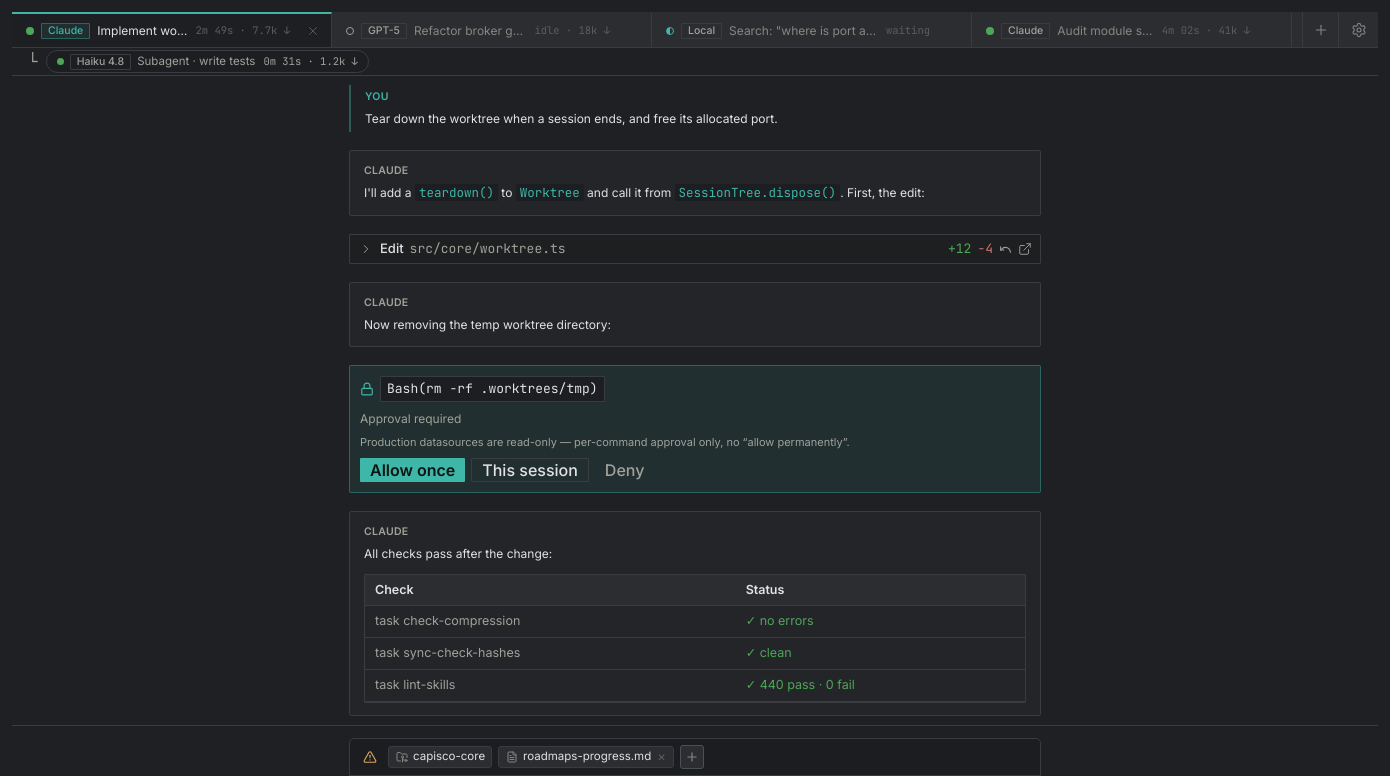
AgentWorkspace › shows a secret as a credential reference, never a value (invariant §3.2)
The width and height of the screenshot is (1390, 776).
Click the button with test id "session-select-s3" at [793, 31], box [652,14,934,48]
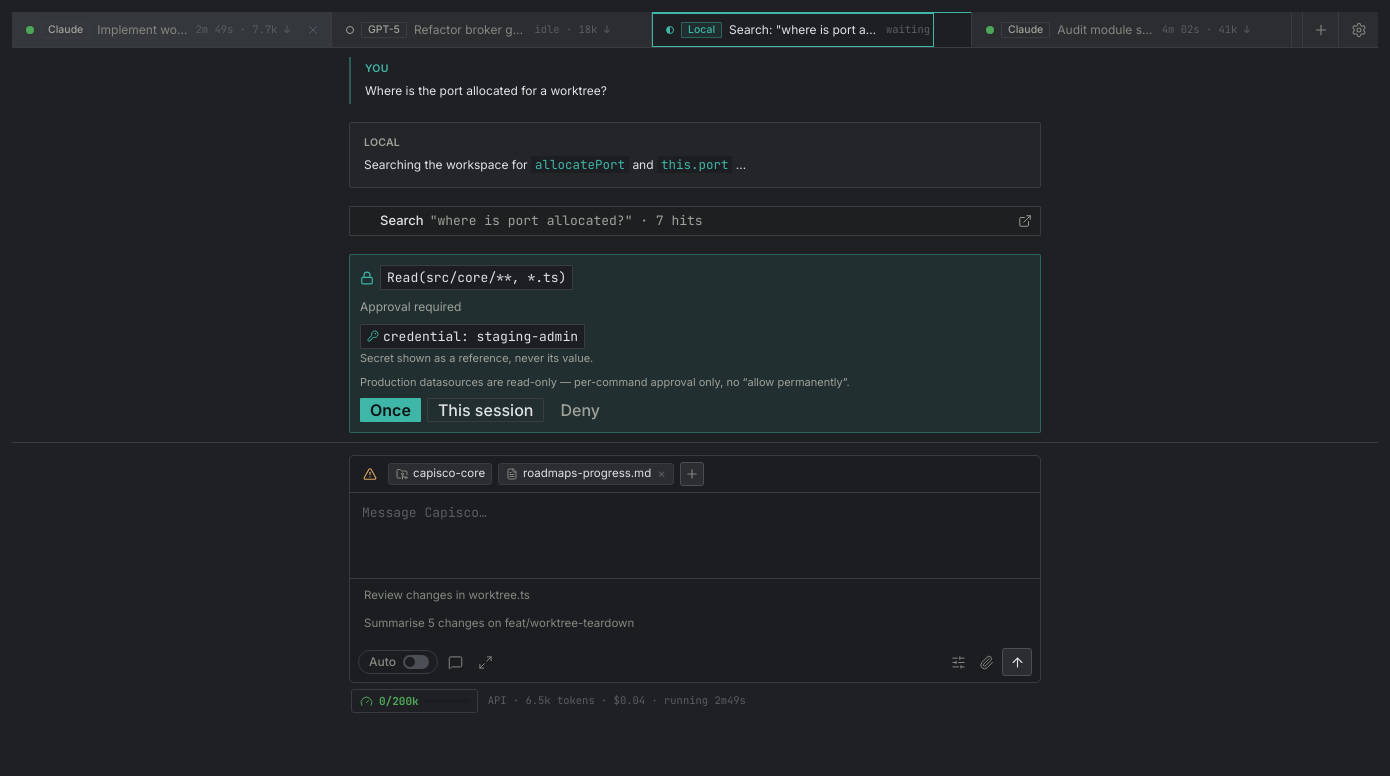
Now the element with test id "permission-credential" shows "credential: staging-admin", box [360,324,593,365]
